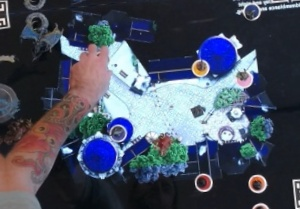blue: (240, 0, 263, 22)
orange: (244, 170, 270, 194)
pink: (232, 66, 255, 87)
red: (190, 171, 216, 195)
violet: (107, 122, 127, 142)
yellow: (188, 54, 213, 78)
